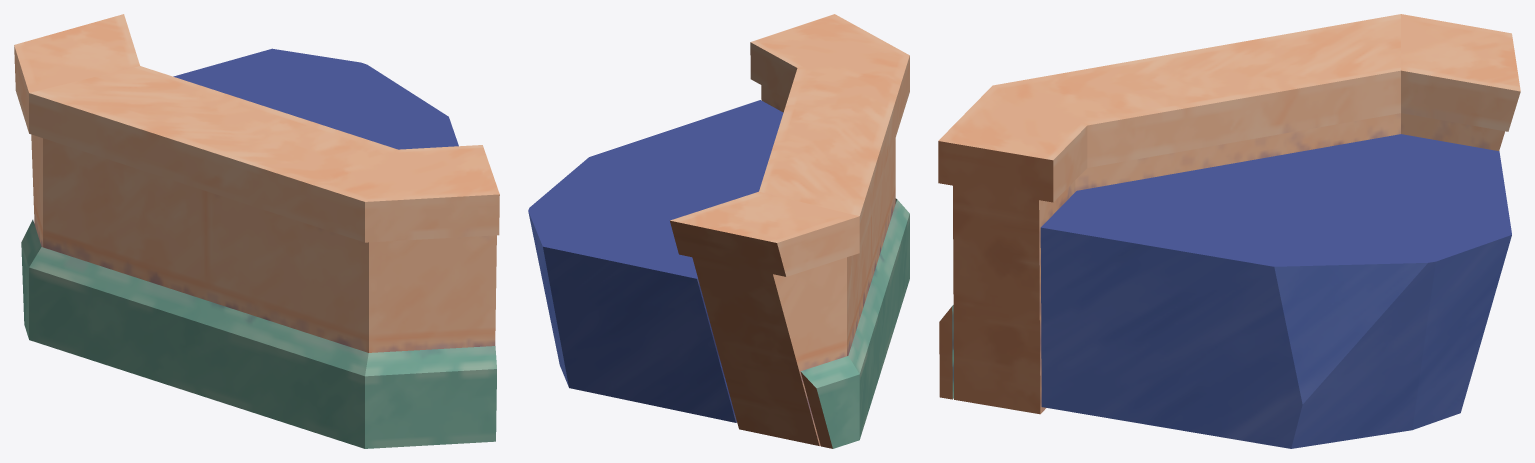
The model's file is vat_indigo_s06.fbx.
The picture shows the model from 3 angles, left to right: view 1: azimuth 30°, elevation 25°; view 2: azimuth 150°, elevation 25°; view 3: azimuth 270°, elevation 25°; orthographic projection. The views are drawn at different scales.
Parts seen in each view (by area): view 1: vat_indigo_s06; view 2: vat_indigo_s06; view 3: vat_indigo_s06.
Boxes of the visible parts, x1,y1,x2,y2 form: vat_indigo_s06: (14, 14, 499, 448); vat_indigo_s06: (528, 14, 909, 448); vat_indigo_s06: (938, 14, 1520, 448).
Size of the model in its own units: 2.64 by 1.7 by 3.48.
